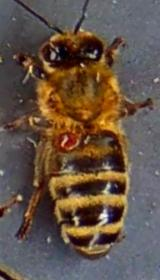varroa_mite: (44, 121, 88, 159)
